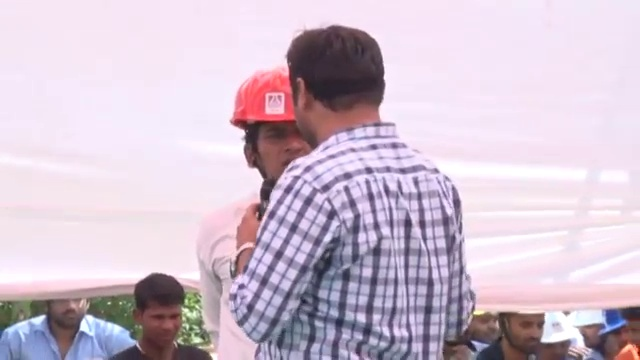helmet: (230, 62, 311, 132), (538, 308, 579, 346), (599, 309, 627, 337), (568, 310, 603, 330)
helmet_off: (282, 31, 387, 125), (130, 274, 185, 347), (35, 298, 94, 334), (502, 308, 553, 348), (614, 308, 640, 360), (469, 312, 499, 342)
helmet_on: (229, 60, 312, 184), (532, 308, 579, 360), (568, 308, 605, 350), (600, 309, 629, 354)
person: (243, 24, 476, 360), (198, 62, 313, 357), (105, 274, 216, 360), (0, 297, 134, 360), (476, 309, 549, 360)
